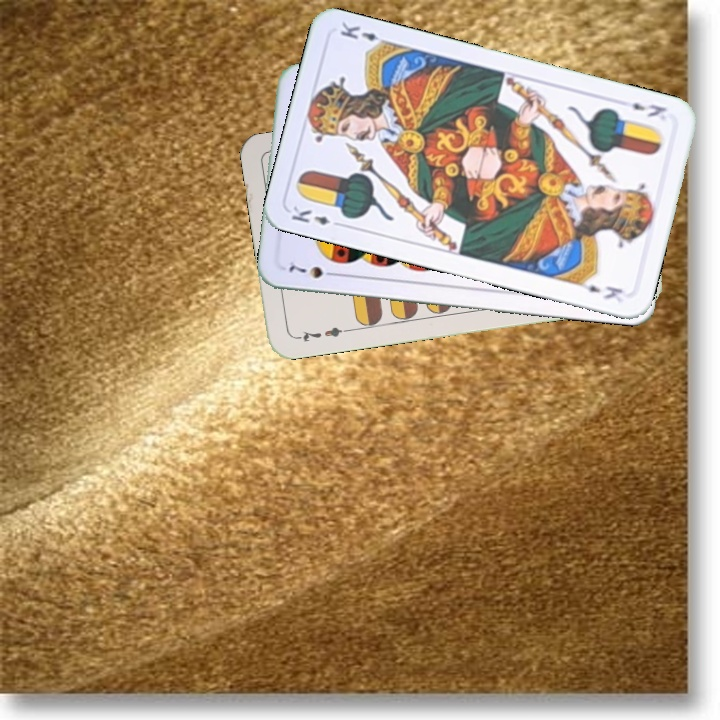E7: (291, 322, 351, 345)
EK: (287, 202, 346, 230), (628, 98, 669, 120)
S7: (284, 257, 341, 281)
